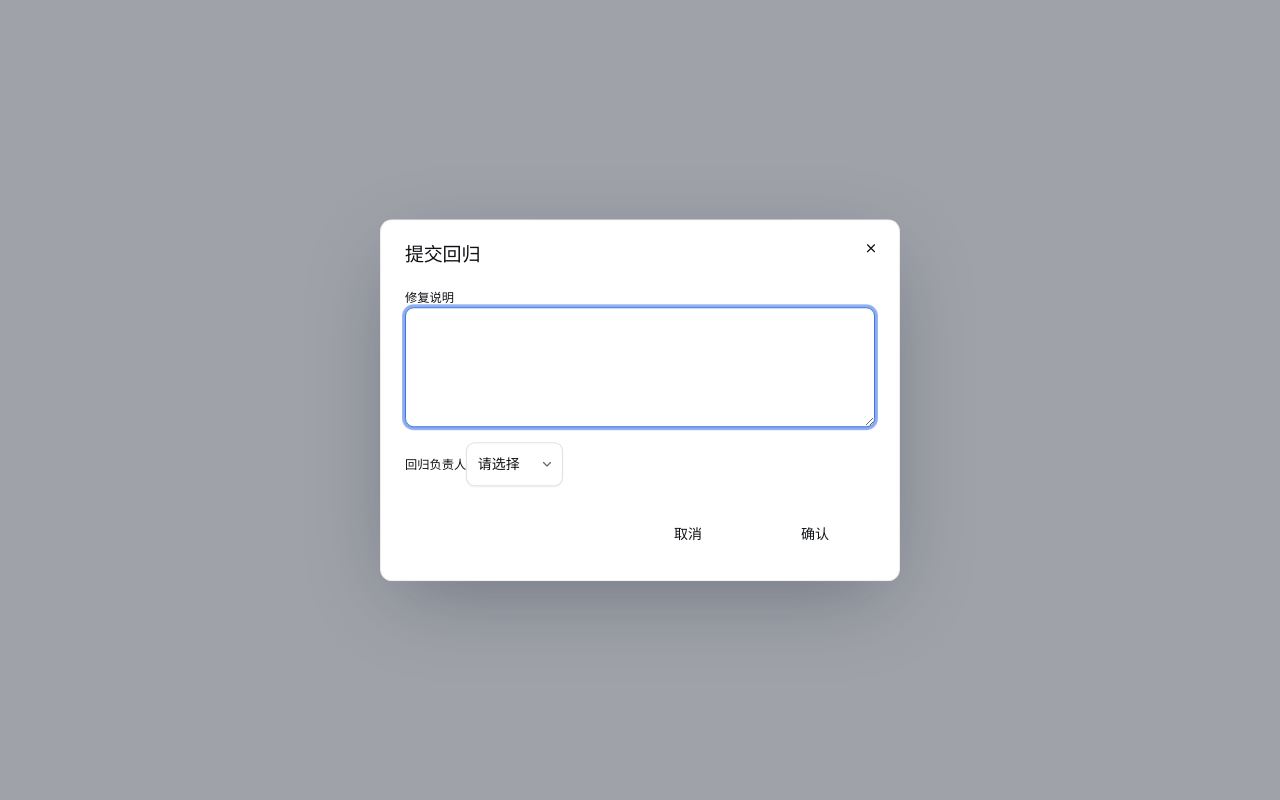
Test case: BugActionDialog › 提交回归缺少修复说明时本地校验阻止提交
Click the button "确认" at {"x": 815, "y": 534}, box top-left (755, 512), bottom-right (875, 556)
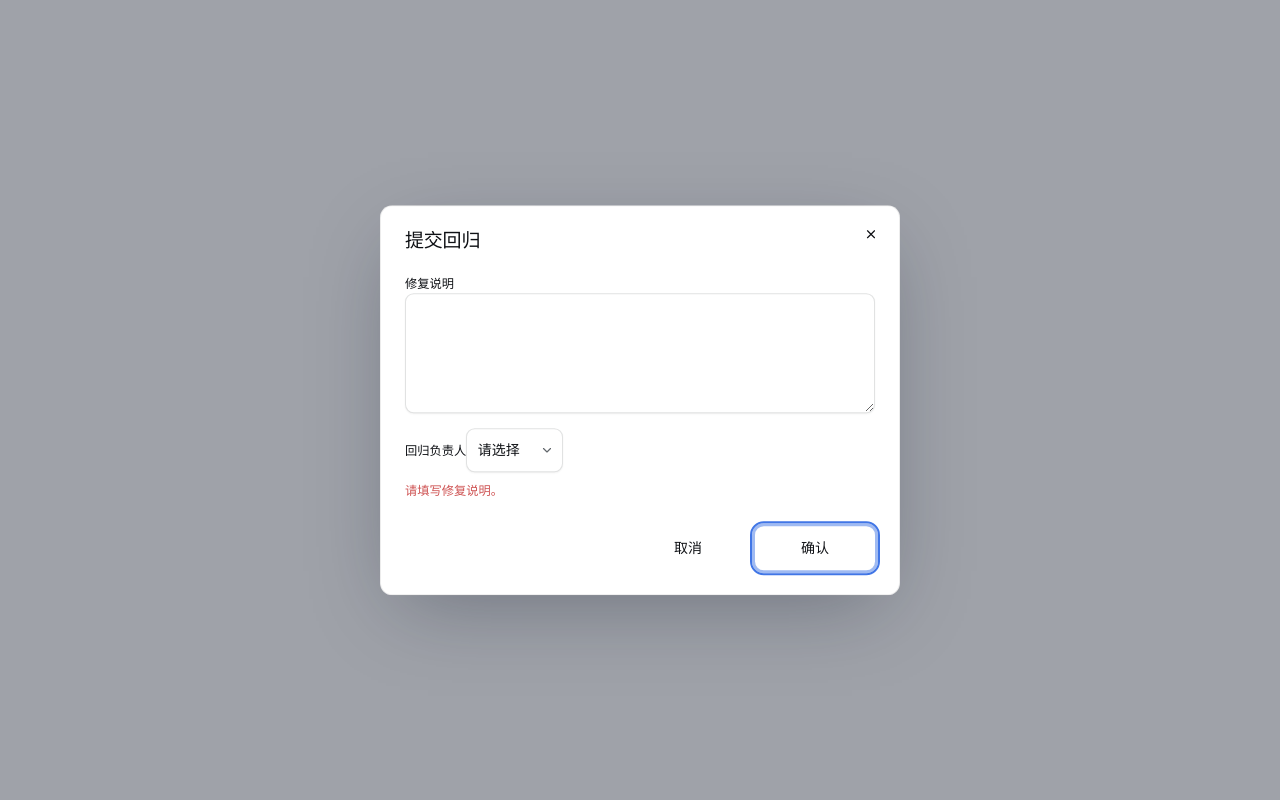
Now the message shows "请填写修复说明", box top-left (405, 483), bottom-right (503, 498)
